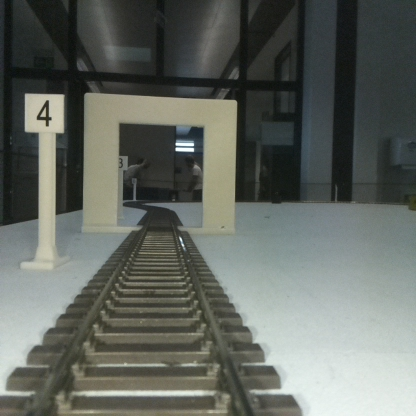white-info-4: (25, 94, 64, 268)
